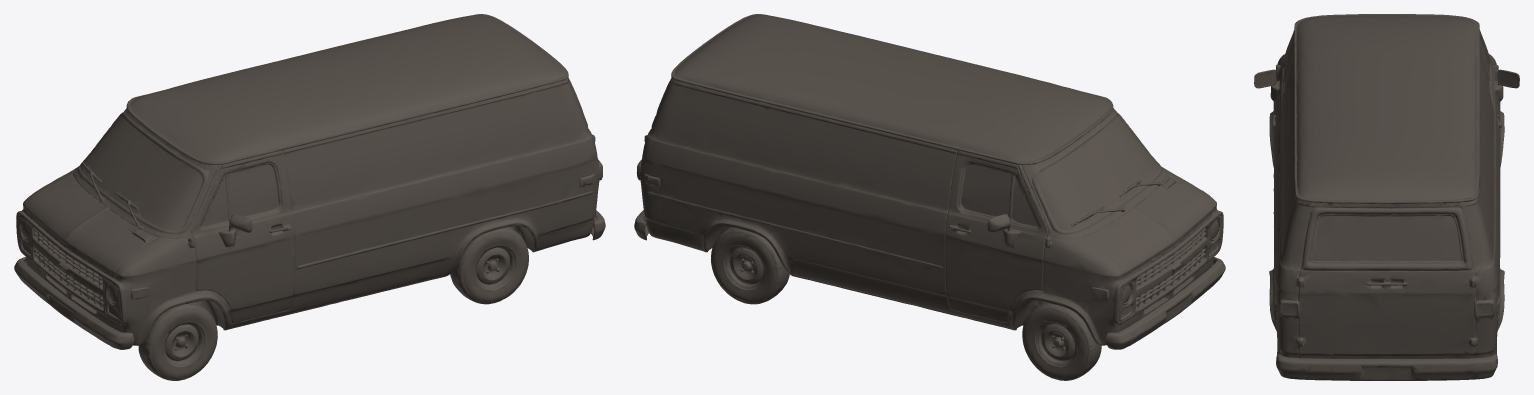
Rendered from car_van_light_q0.glb.
3 renders of one model, left to right at view 1: azimuth 30°, elevation 25°; view 2: azimuth 150°, elevation 25°; view 3: azimuth 270°, elevation 25°, orthographic. The views are drawn at different scales.
Size of the model in its own units: 0.0488 by 0.02 by 0.0217.
Materials: 1 (1 with a texture image).
